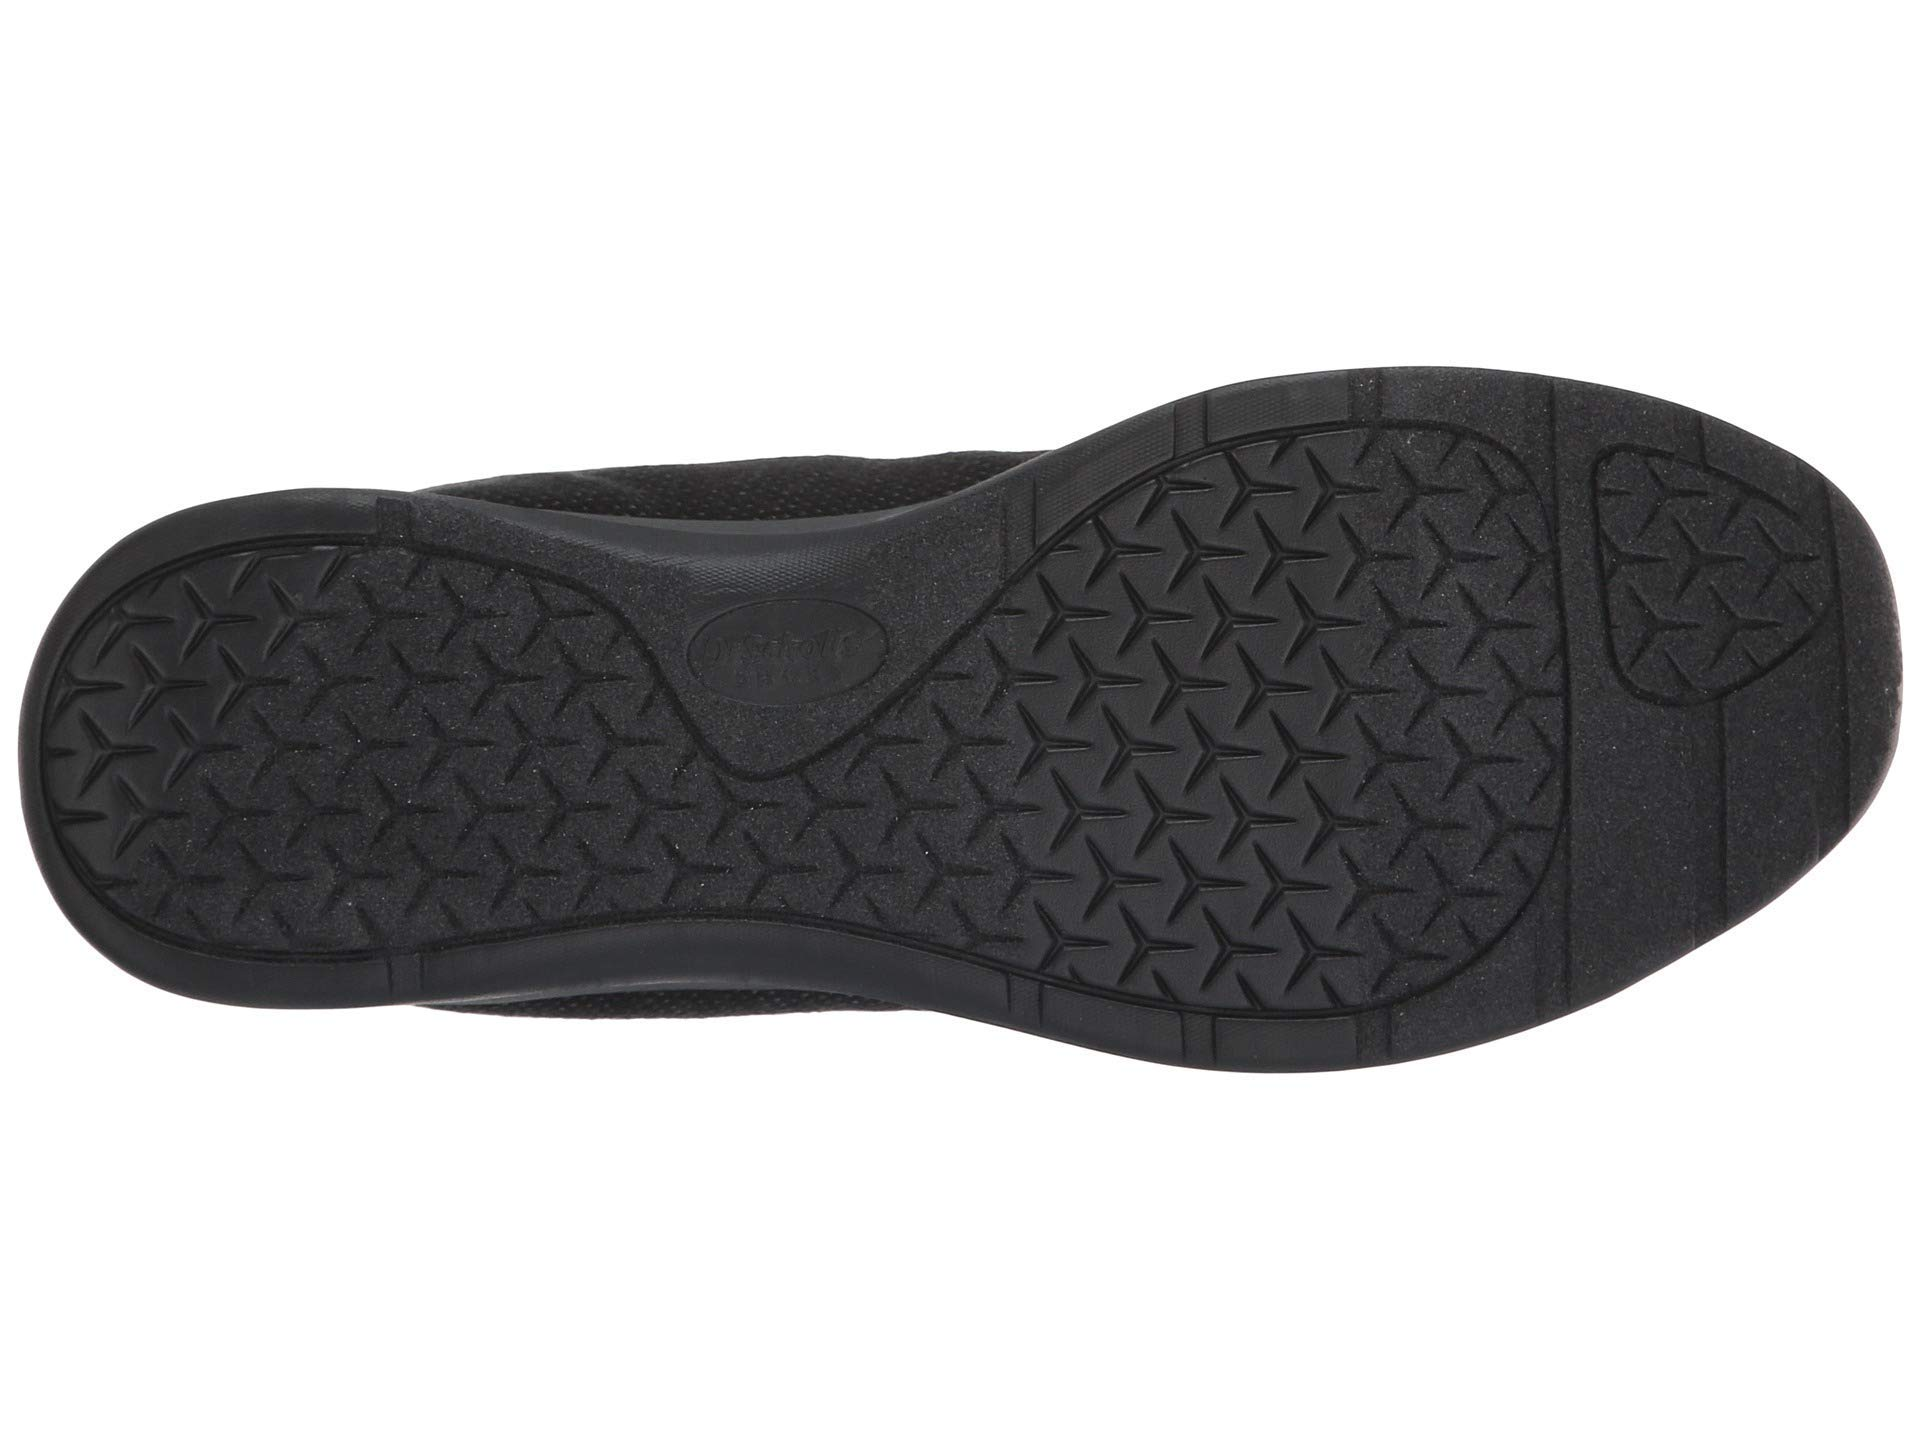star: (1054, 551, 1486, 992), (209, 620, 488, 873)
